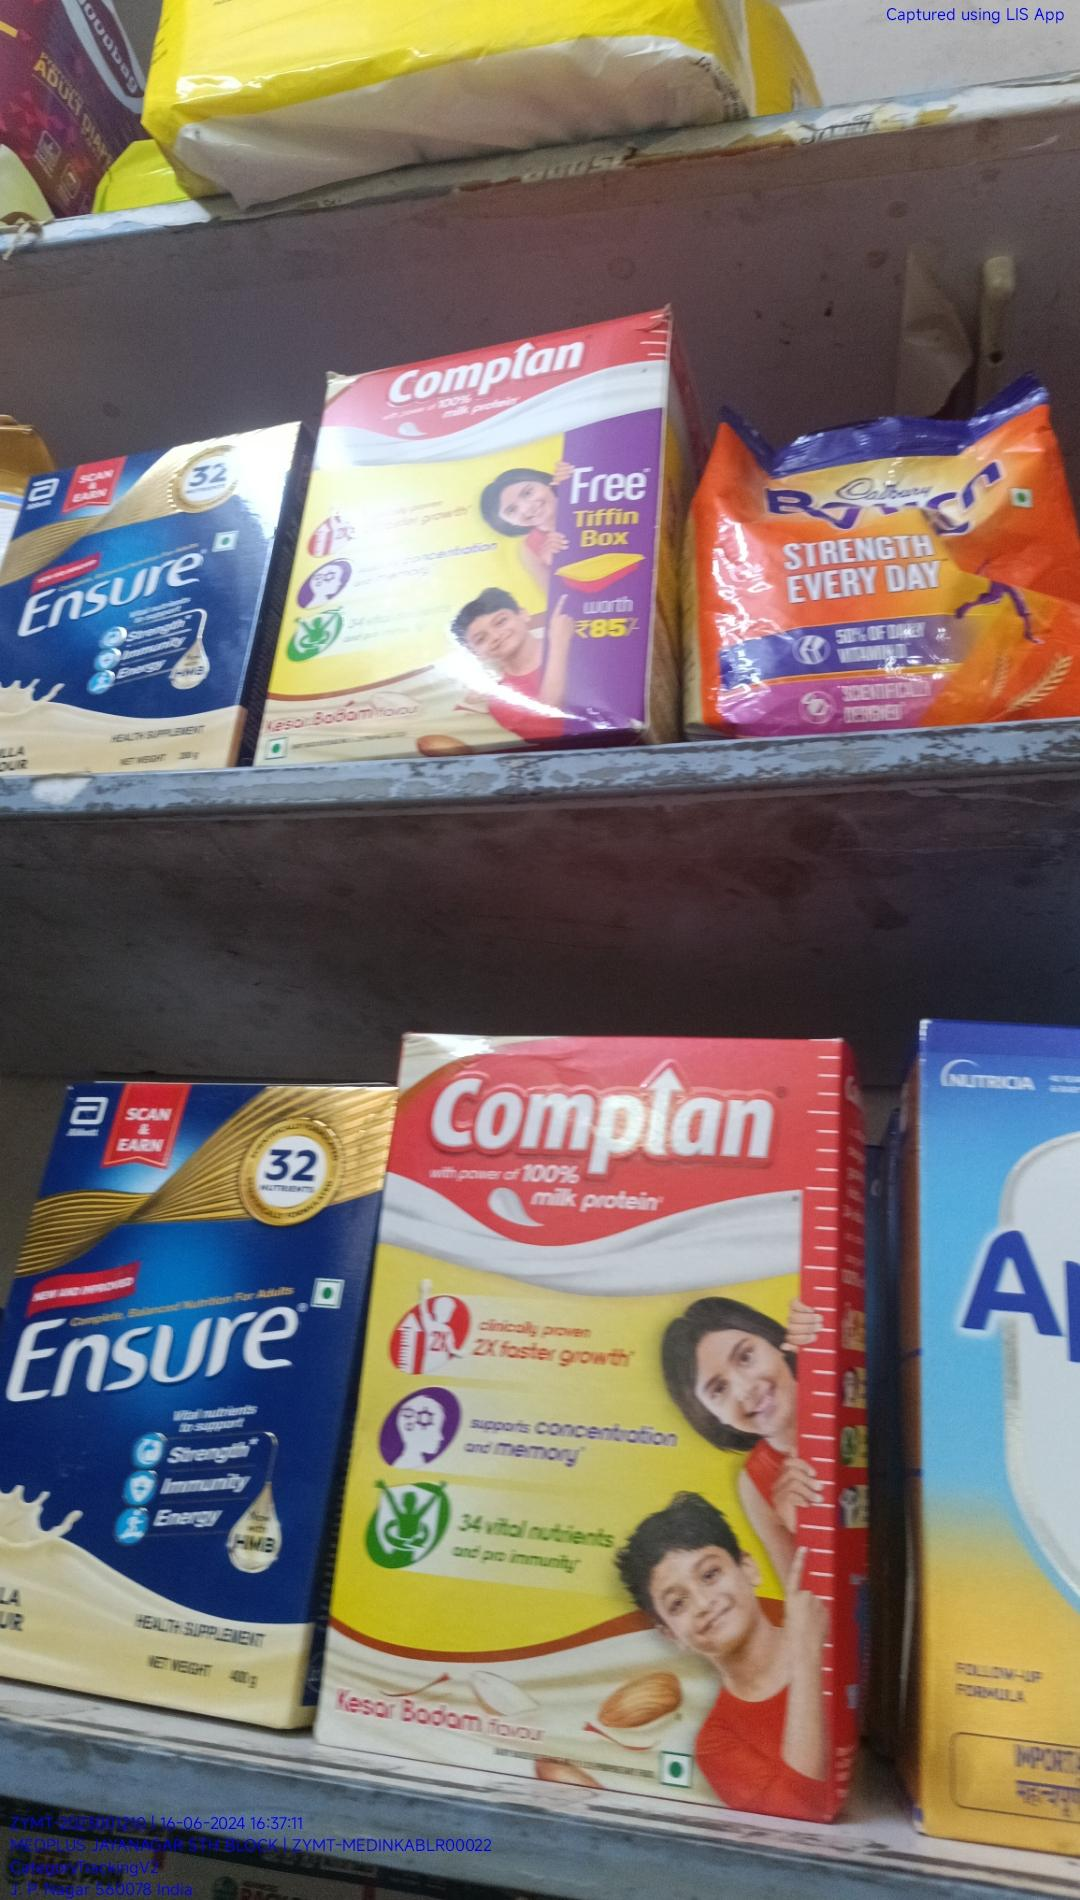BOURN_VITA_500_G_POUCH: (693, 407, 1080, 723)
COMPLAN_KESAR_BADAM_500_GMS_PACK: (323, 1030, 835, 1754), (252, 307, 657, 756)
